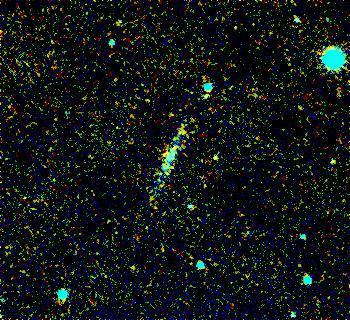star: (318, 147, 348, 177)
